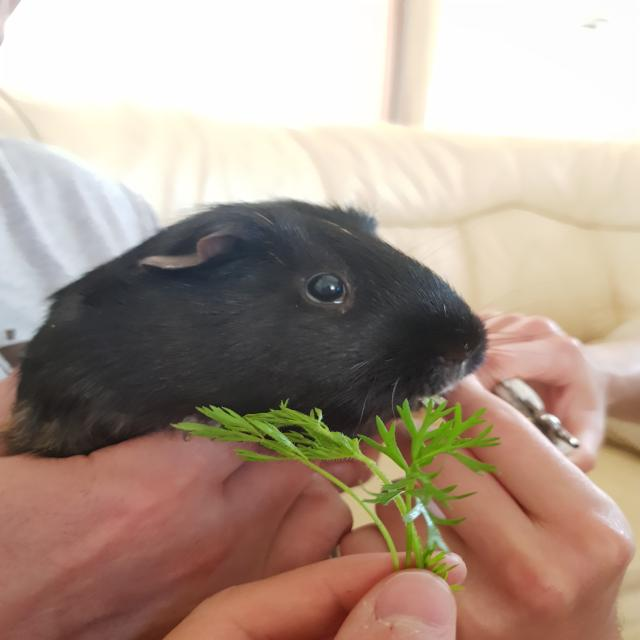guinea pig: (9, 196, 488, 460)
